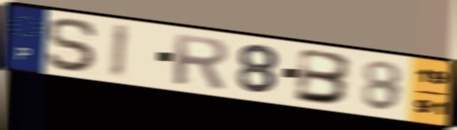8: (359, 59, 405, 112), (236, 43, 280, 96)
B: (292, 46, 356, 107)
I: (108, 22, 131, 81)
R: (171, 31, 231, 91)
S: (44, 16, 100, 75)
